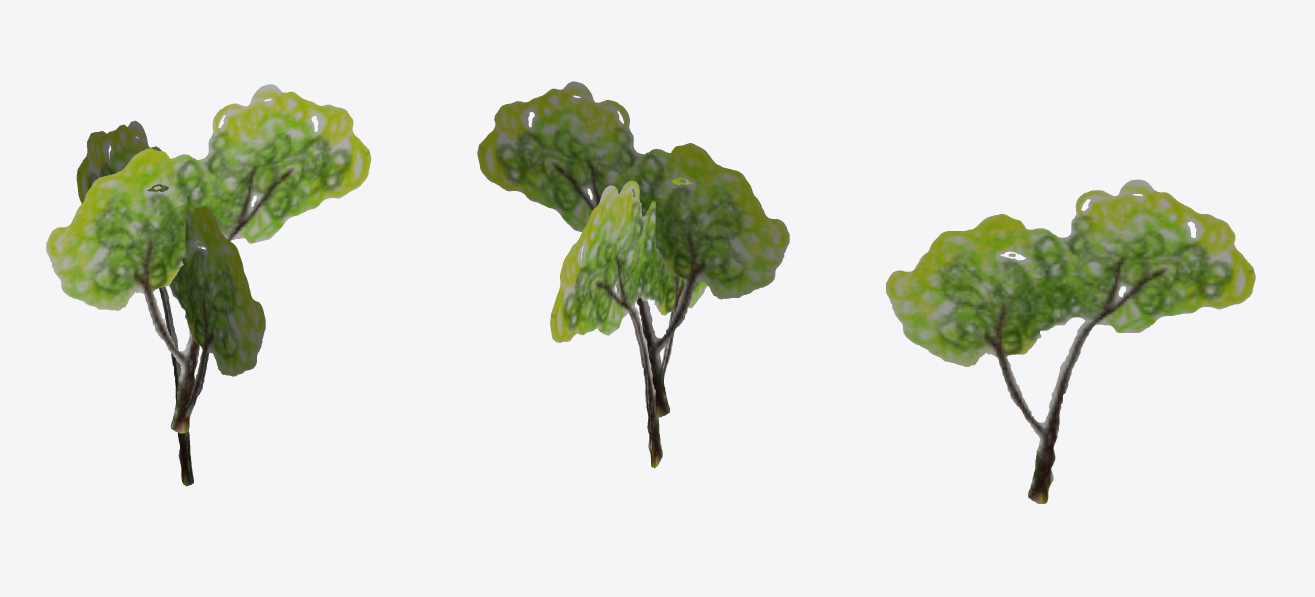
Rendered from Bush2.fbx.
3 renders of one model, left to right at view 1: azimuth 30°, elevation 25°; view 2: azimuth 150°, elevation 25°; view 3: azimuth 270°, elevation 25°, orthographic. The views are drawn at different scales.
Parts seen in each view (by area): view 1: Bush2; view 2: Bush2; view 3: Bush2.
Part boxes in pixels (bbox=[...]): Bush2: bbox=[46, 84, 371, 486]; Bush2: bbox=[477, 81, 789, 468]; Bush2: bbox=[886, 179, 1255, 503].
Bounding box in the file's own units: 707 × 757 × 707.
1 material, 1 textured.
